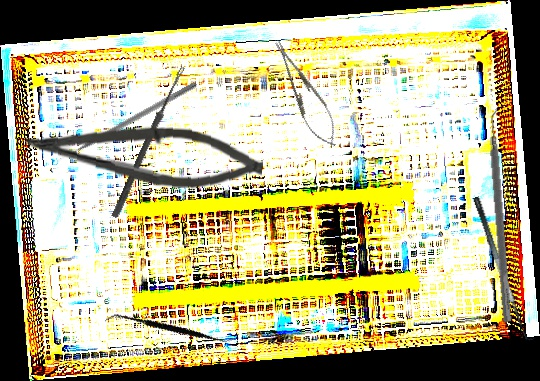Micro Scissor: (23, 119, 265, 193)
Needle Holder: (265, 34, 346, 154)
Pusher: (54, 79, 198, 165)
Spatula Surgical: (104, 278, 237, 381), (472, 192, 539, 344), (483, 103, 522, 323)
Surgical Spoon: (111, 65, 186, 219)
